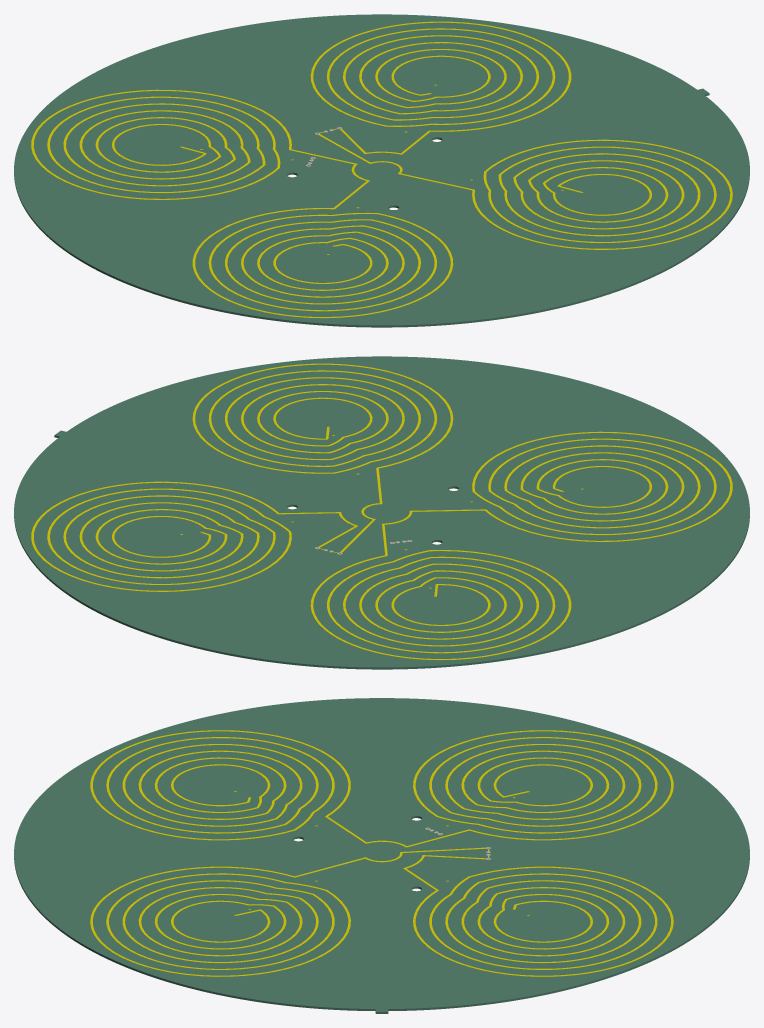
File: SB1R-QA_with_components.glb
3 renders of one model, top to bottom at view 1: azimuth 30°, elevation 25°; view 2: azimuth 150°, elevation 25°; view 3: azimuth 270°, elevation 25°, orthographic.
Visible parts, largest first — view 1: =>[0:1:1:5], =>[0:1:1:2]; view 2: =>[0:1:1:5], =>[0:1:1:2]; view 3: =>[0:1:1:5], =>[0:1:1:2].
Boxes of the visible parts, x1,y1,x2,y2 form: =>[0:1:1:5]: (14,14,749,327); =>[0:1:1:2]: (31,21,732,318); =>[0:1:1:5]: (14,356,749,669); =>[0:1:1:2]: (31,363,732,660); =>[0:1:1:5]: (14,698,749,1013); =>[0:1:1:2]: (90,730,673,976).
Bounding box in the file's own units: 0.23 × 0.00079 × 0.228.
